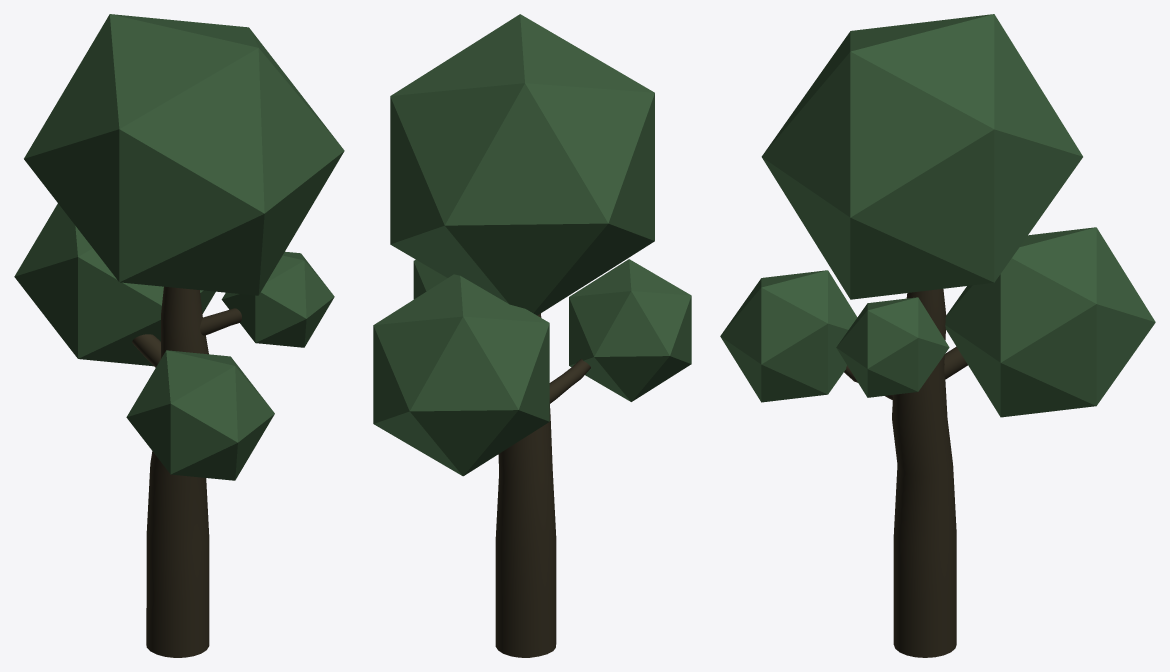
The model's file is plante.fbx.
3 views of the same model, side by side, from view 1: azimuth 30°, elevation 25°; view 2: azimuth 150°, elevation 25°; view 3: azimuth 270°, elevation 25° (orthographic). The views are drawn at different scales.
Visible parts, largest first — view 1: pPlatonic2, plante, pPlatonic4, pPlatonic3, pPlatonic5, pasted__pasted__pCylinder1, pasted__pCylinder1; view 2: pPlatonic2, pPlatonic3, plante, pPlatonic4, pasted__pCylinder1, pPlatonic5; view 3: pPlatonic2, pPlatonic3, plante, pPlatonic4, pPlatonic5.
Boxes of the visible parts, left/top/right/bottom form: pPlatonic2: left=24, top=14, right=344, bottom=295; plante: left=146, top=286, right=209, bottom=657; pPlatonic4: left=126, top=350, right=274, bottom=480; pPlatonic3: left=14, top=203, right=215, bottom=366; pPlatonic5: left=221, top=251, right=334, bottom=347; pasted__pasted__pCylinder1: left=200, top=308, right=241, bottom=335; pasted__pCylinder1: left=132, top=334, right=160, bottom=367; pPlatonic2: left=390, top=14, right=654, bottom=315; pPlatonic3: left=373, top=274, right=549, bottom=476; plante: left=495, top=313, right=556, bottom=657; pPlatonic4: left=569, top=259, right=691, bottom=401; pasted__pCylinder1: left=549, top=359, right=590, bottom=403; pPlatonic5: left=413, top=259, right=447, bottom=299; pPlatonic2: left=761, top=14, right=1082, bottom=299; pPlatonic3: left=945, top=227, right=1155, bottom=417; plante: left=892, top=289, right=956, bottom=657; pPlatonic4: left=720, top=270, right=857, bottom=402; pPlatonic5: left=836, top=297, right=949, bottom=397.
Size of the model in its own units: 9.13 by 21.5 by 13.82.
